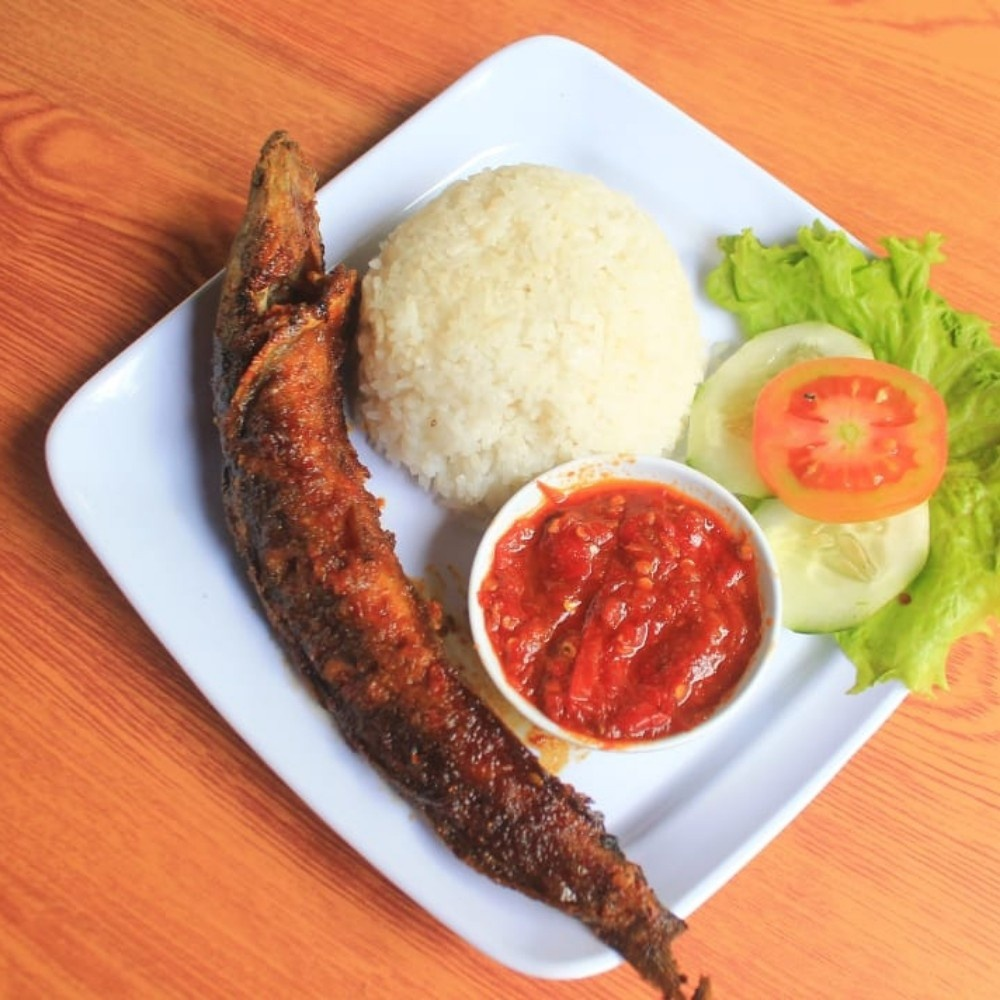pecel_lele: (185, 117, 377, 909)
